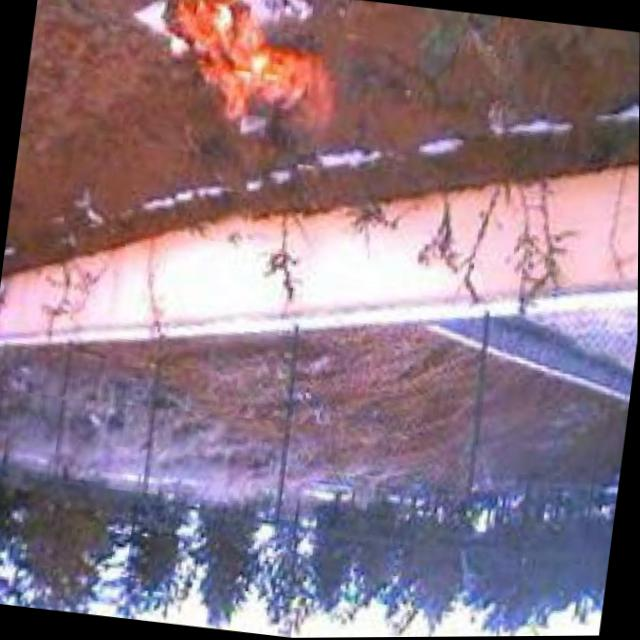Fire: (136, 0, 355, 150)
